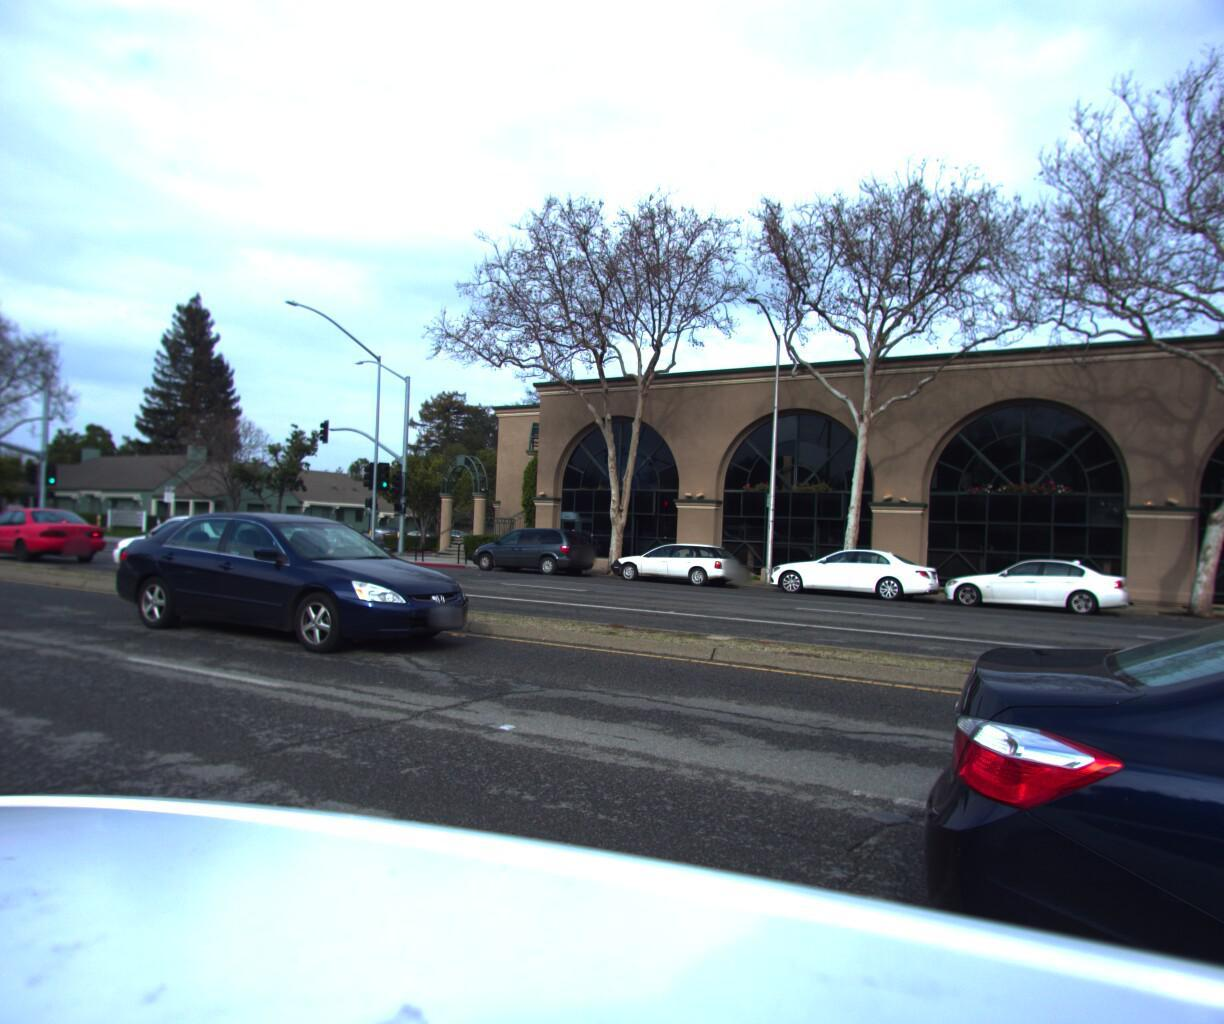car: (109, 507, 494, 666), (106, 507, 302, 585), (933, 547, 1133, 619), (761, 539, 946, 604), (606, 527, 748, 586), (463, 521, 600, 576), (0, 502, 110, 560), (296, 519, 396, 547)
